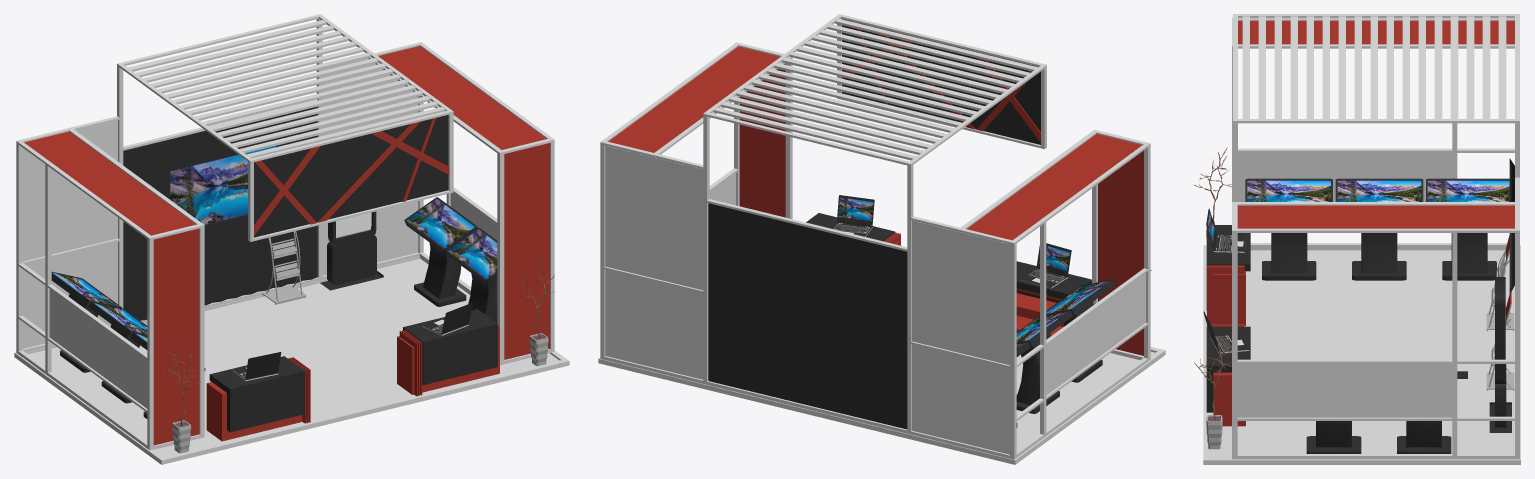
The model's file is Expo2_Booth1_Final_Reto.fbx.
3 renders of one model, left to right at view 1: azimuth 30°, elevation 25°; view 2: azimuth 150°, elevation 25°; view 3: azimuth 270°, elevation 25°, orthographic. The views are drawn at different scales.
Parts seen in each view (by area): view 1: Plane, Cube.001, Cube, Cube.010, Plane.020, Plane.007, Plane.017, Plane.019, Plane.005, Plane.004, Plane.001, Plane.002 (+18 smaller); view 2: Plane.006, Cube.001, Cube, Plane.005, Plane.017, Plane.001, Plane.002, Plane, Plane.018, Plane.004, Plane.009, Cube.010 (+7 smaller); view 3: Plane, Cube.001, Cube, Plane.003, Plane.009, Plane.002, Cube.010, Plane.018, Plane.021, Plane.008, Plane.022, Plane.014 (+8 smaller).
Boxes of the visible parts, bbox=[...] form: Plane: bbox=[14, 256, 569, 464]; Cube.001: bbox=[16, 14, 554, 450]; Cube: bbox=[128, 20, 445, 158]; Cube.010: bbox=[206, 309, 499, 441]; Plane.020: bbox=[153, 156, 549, 445]; Plane.007: bbox=[123, 106, 317, 320]; Plane.017: bbox=[22, 201, 418, 348]; Plane.019: bbox=[254, 126, 413, 237]; Plane.005: bbox=[22, 59, 418, 261]; Plane.004: bbox=[272, 115, 448, 232]; Plane.001: bbox=[504, 143, 549, 352]; Plane.002: bbox=[79, 84, 546, 235]; Plane.006: bbox=[708, 203, 907, 429]; Cube.001: bbox=[600, 14, 1150, 459]; Cube: bbox=[713, 18, 1037, 160]; Plane.005: bbox=[605, 258, 1009, 454]; Plane.017: bbox=[605, 145, 1009, 374]; Plane.001: bbox=[739, 63, 1143, 355]; Plane.002: bbox=[663, 46, 1142, 215]; Plane: bbox=[598, 347, 1165, 464]; Plane.018: bbox=[608, 91, 1075, 240]; Plane.004: bbox=[906, 35, 1040, 144]; Plane.009: bbox=[1046, 314, 1145, 395]; Cube.010: bbox=[806, 213, 1091, 335]; Plane: bbox=[1203, 245, 1520, 464]; Cube.001: bbox=[1232, 14, 1519, 459]; Cube: bbox=[1242, 16, 1506, 118]; Plane.003: bbox=[1238, 153, 1452, 417]; Plane.009: bbox=[1237, 153, 1450, 417]; Plane.002: bbox=[1237, 21, 1472, 228]; Cube.010: bbox=[1206, 225, 1250, 426]; Plane.018: bbox=[1362, 21, 1514, 228]; Plane.021: bbox=[1335, 178, 1423, 280]; Plane.008: bbox=[1245, 178, 1332, 280]; Plane.022: bbox=[1426, 178, 1509, 280]; Plane.014: bbox=[1489, 277, 1511, 432].
Size of the model in its own units: 810 by 510 by 521.
